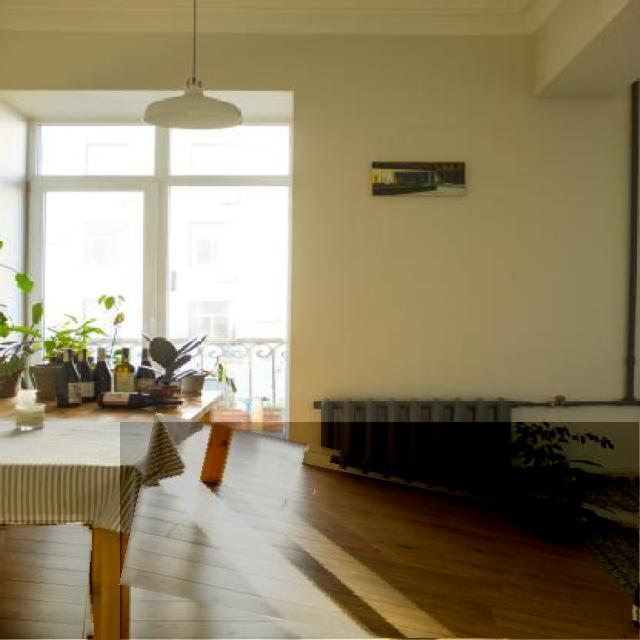floor: (120, 423, 640, 639), (0, 520, 94, 640), (0, 524, 92, 640)
